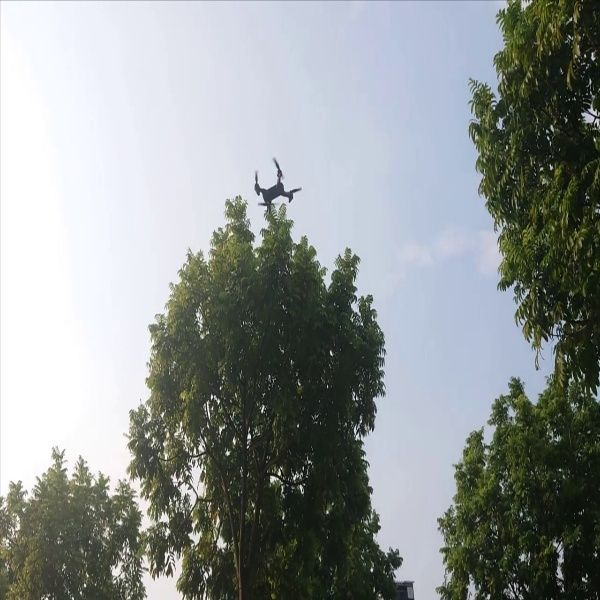drone: (242, 157, 304, 222)
